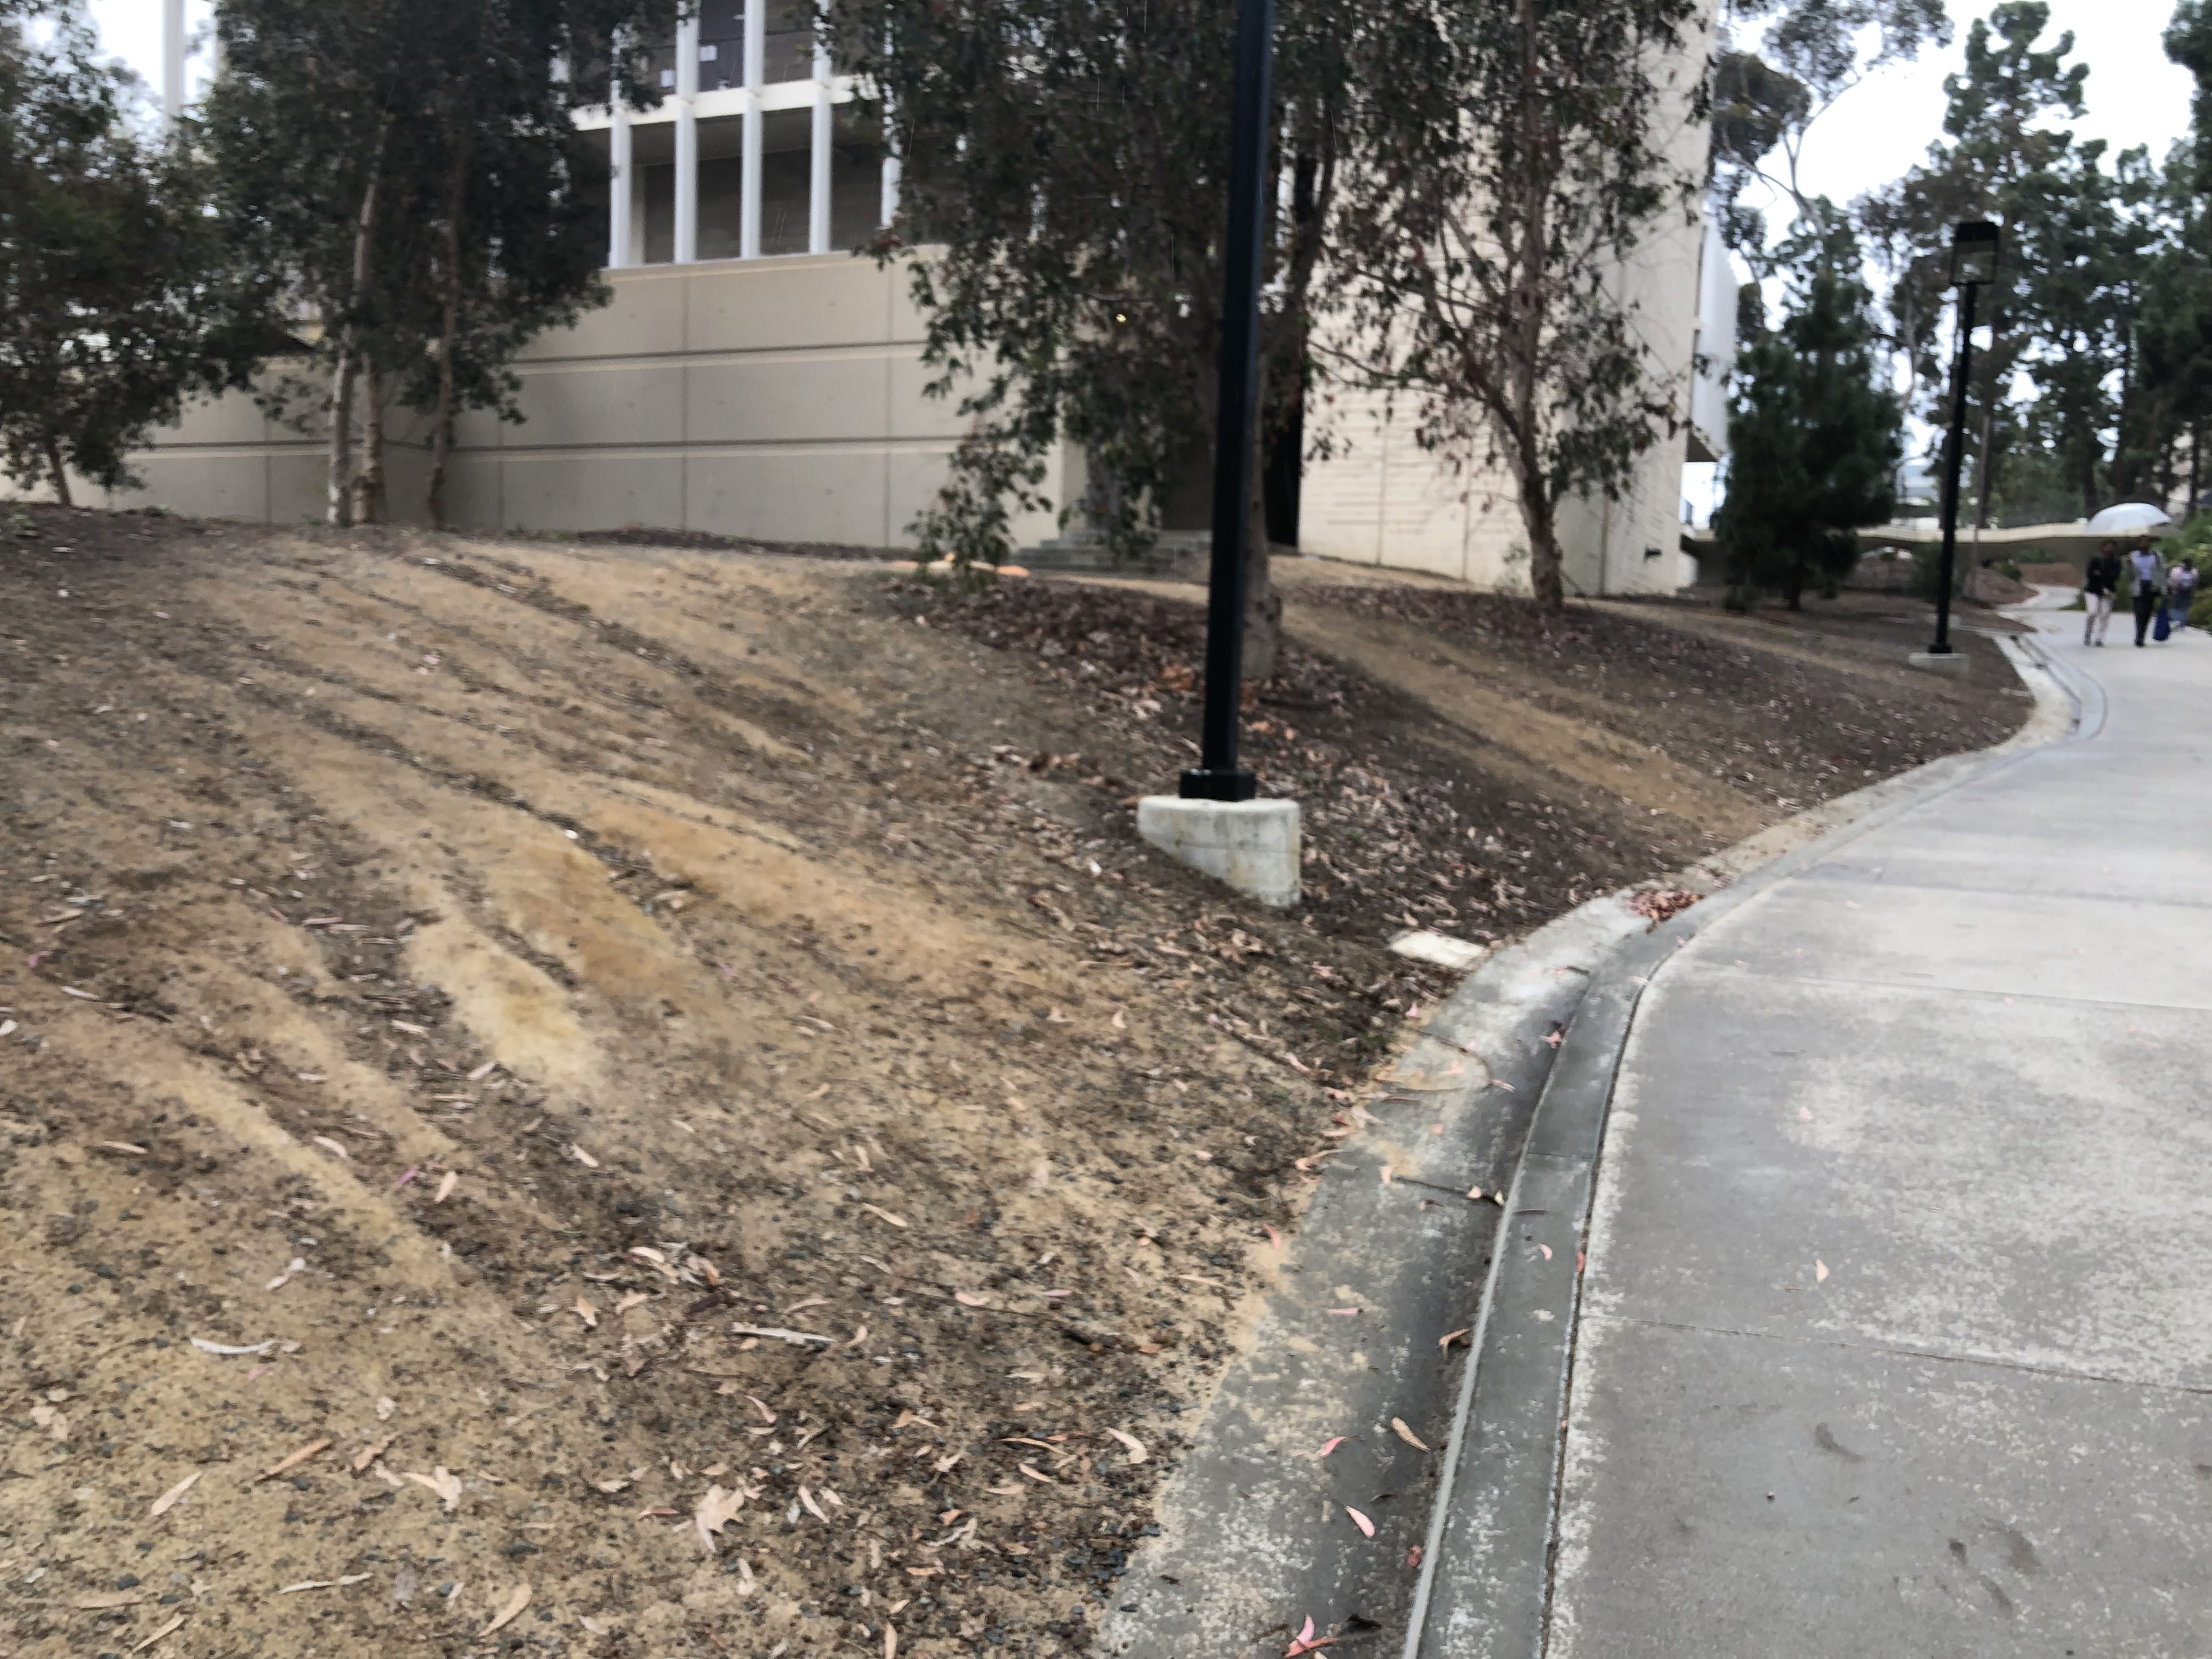Edge: (1583, 636, 2151, 1000), (1378, 946, 1660, 1656)
Obstacle: (1116, 28, 1320, 946), (282, 125, 498, 545), (1451, 157, 1608, 660), (1890, 301, 2010, 671), (2045, 507, 2186, 657)
